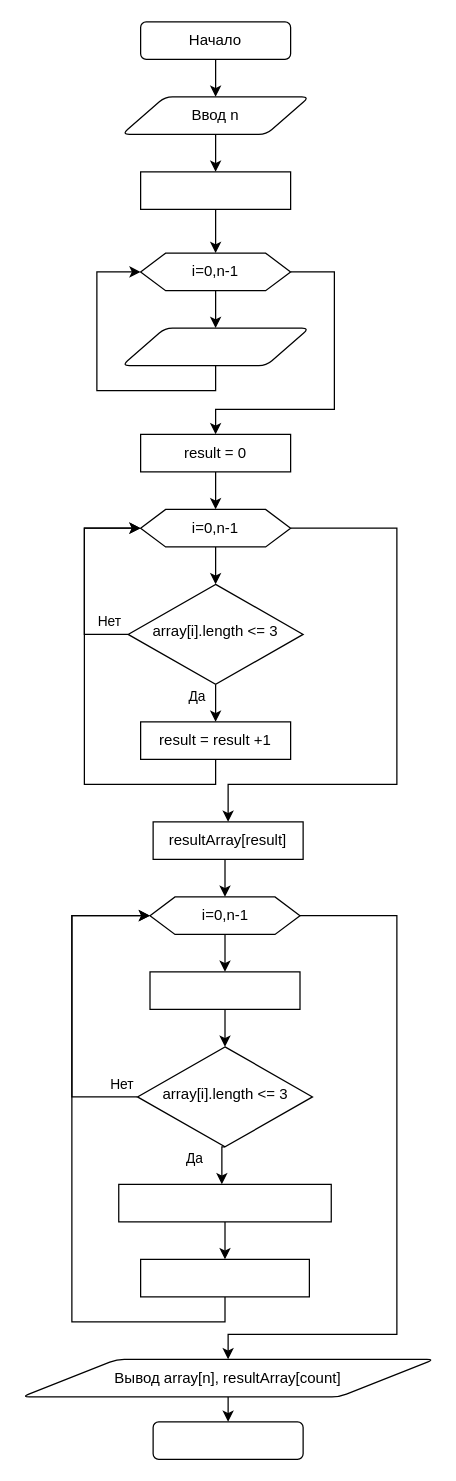
Some shapes in this 456 by 1481 pixel diagram are drawn without their labels. Here are the shapes that lost their labels. From the top down, the centre of each, then its label:
At [215,190]: "array[n]".
At [215,346]: "Ввод array[i]".
At [224,990]: "count = 0".
At [224,1202]: "resultArray[count] = array[i]".
At [224,1277]: "count = count +1".
At [227,1440]: "Конец".
